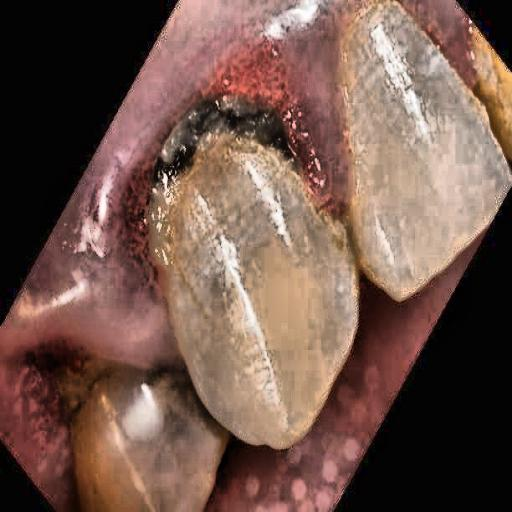Calculus: (137, 62, 408, 409)
